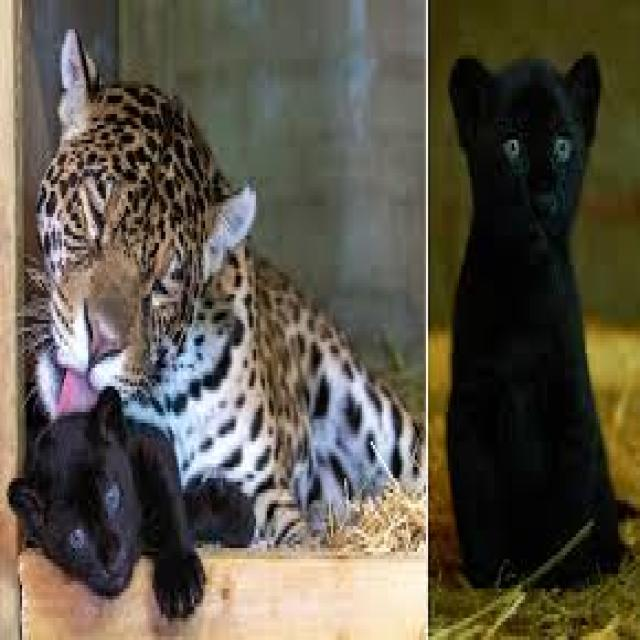Jaguar: (33, 22, 424, 541), (446, 48, 640, 592), (9, 382, 258, 626)
